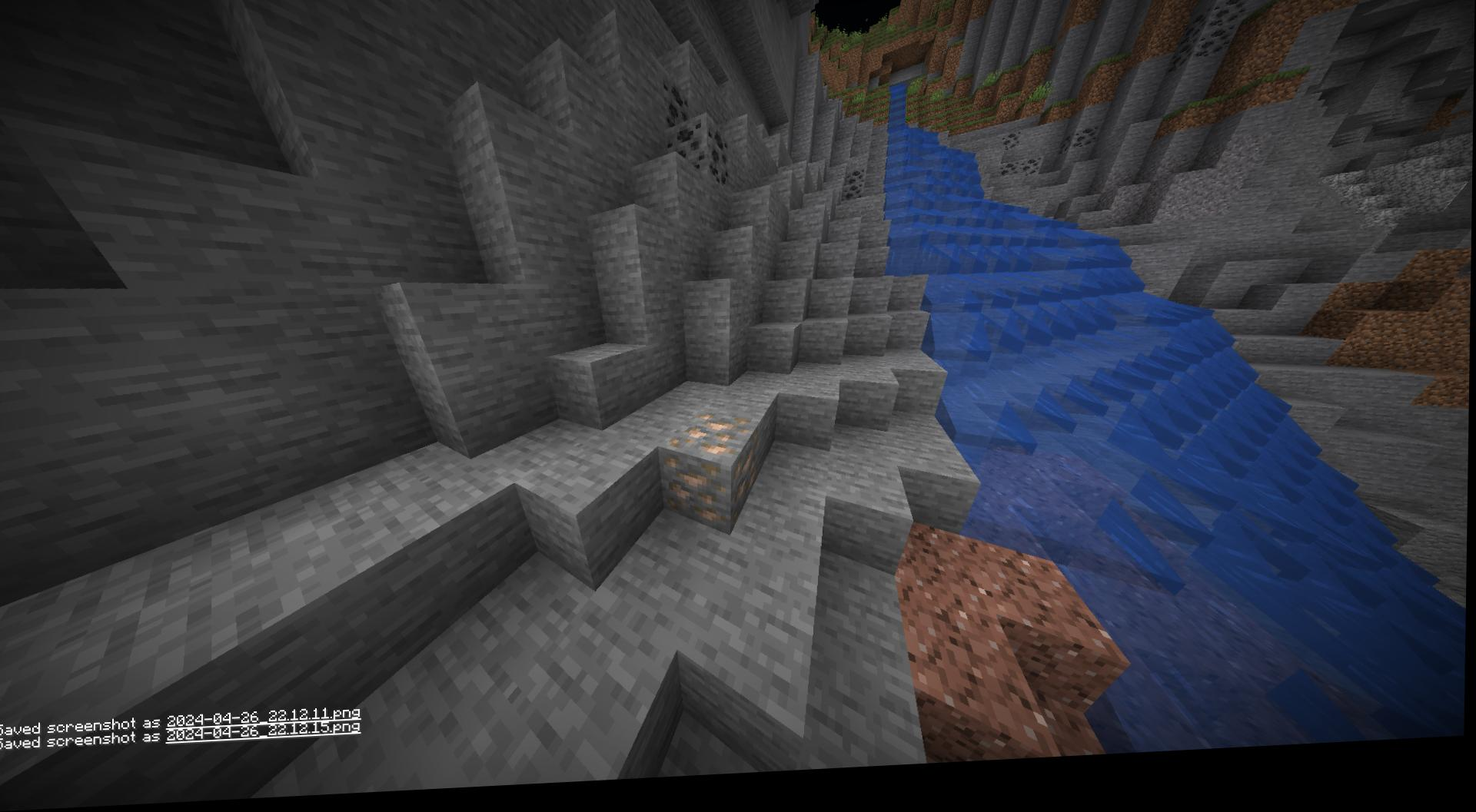iron ore: (660, 457, 729, 533), (673, 416, 750, 464), (729, 451, 761, 514)
